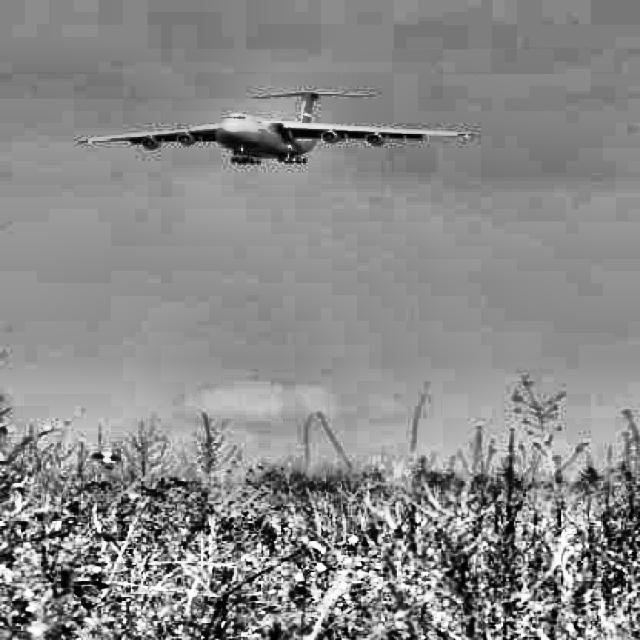C5: (78, 90, 480, 164)
